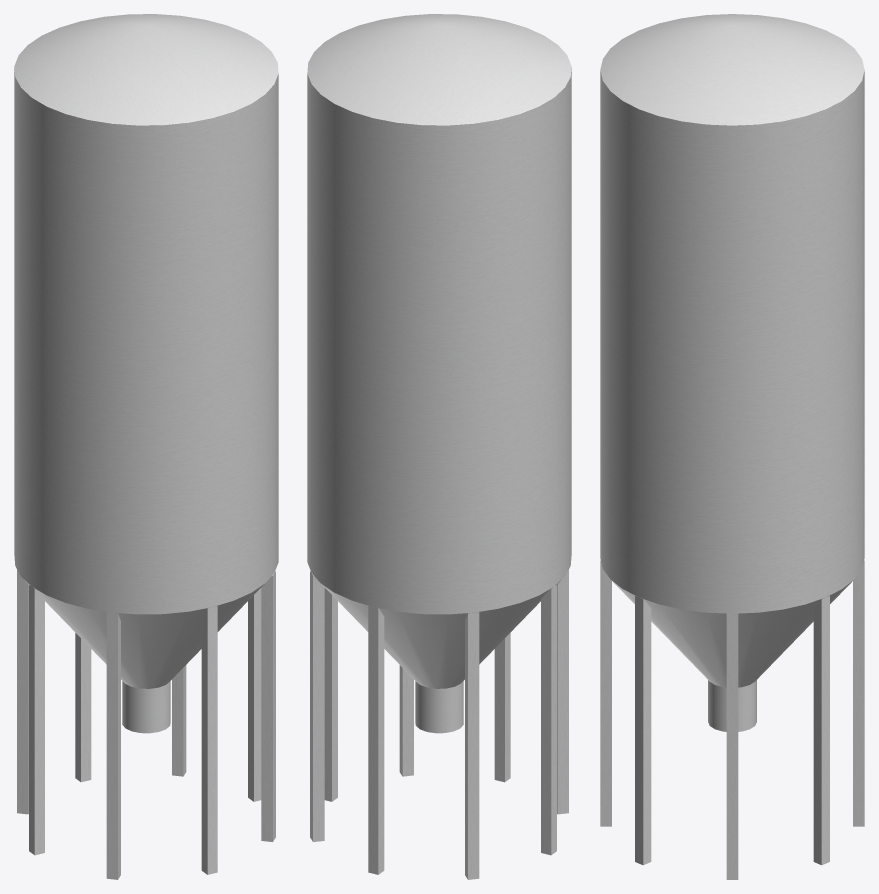
The model's file is grain-silo-hopper-6x16cbj_LOD00.gltf.
3 renders of one model, left to right at view 1: azimuth 30°, elevation 25°; view 2: azimuth 150°, elevation 25°; view 3: azimuth 270°, elevation 25°, orthographic.
Visible parts, largest first — view 1: Grain-silo; view 2: Grain-silo; view 3: Grain-silo.
Part boxes in pixels (box(x1,y1,x2,y2)): Grain-silo: box(14, 14, 278, 879); Grain-silo: box(307, 14, 571, 879); Grain-silo: box(600, 14, 864, 879).
Bounding box in the file's own units: 5.4 × 18 × 5.4.
